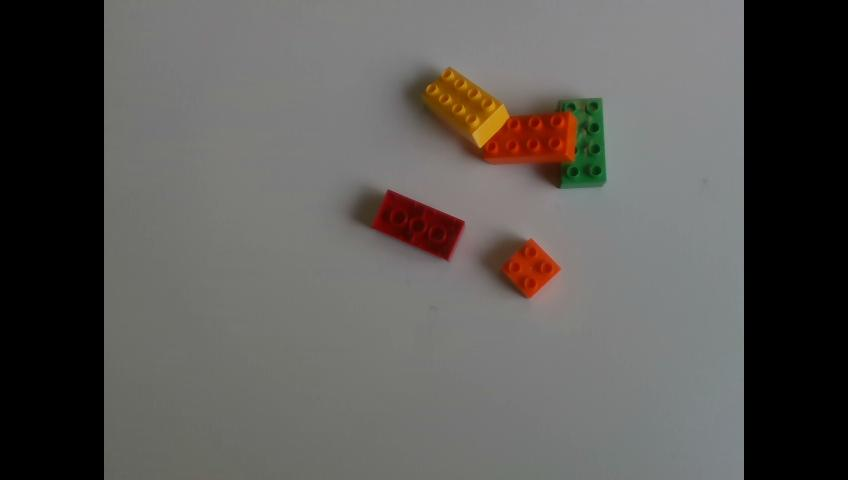2x2_orange: (500, 237, 559, 301)
4x2_green: (560, 98, 606, 186)
4x2_orange: (483, 111, 575, 162)
4x2_red: (372, 189, 463, 258)
4x2_yellow: (423, 66, 508, 147)
